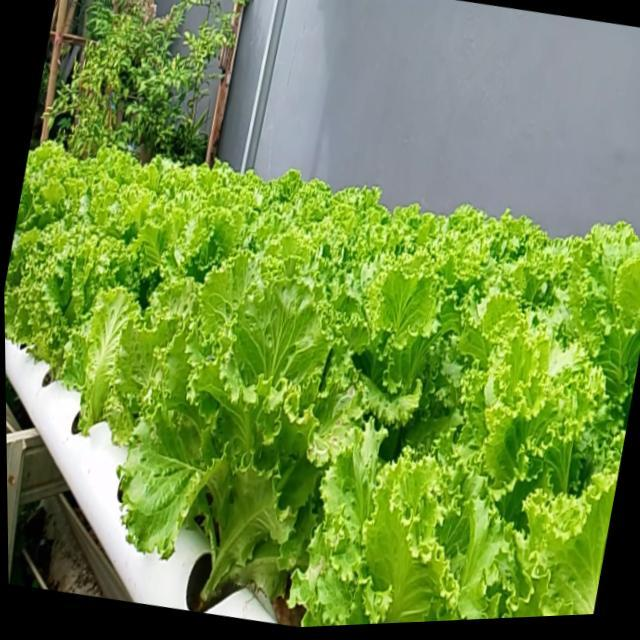Mature: (122, 258, 353, 612), (5, 217, 126, 393)
